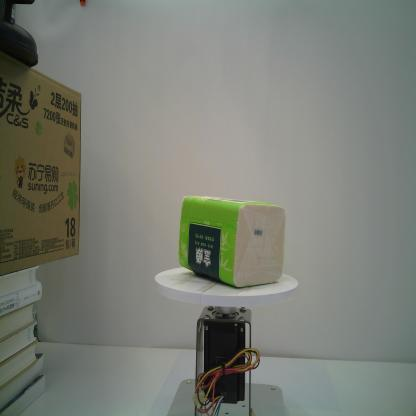Tissue: (176, 192, 288, 290)
